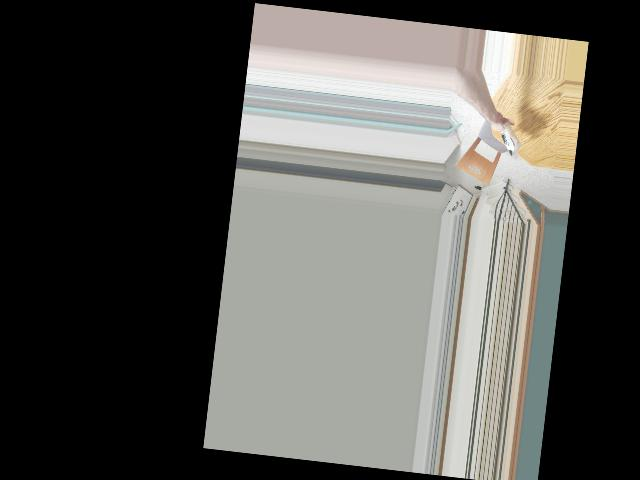cheese: (496, 120, 523, 157)
